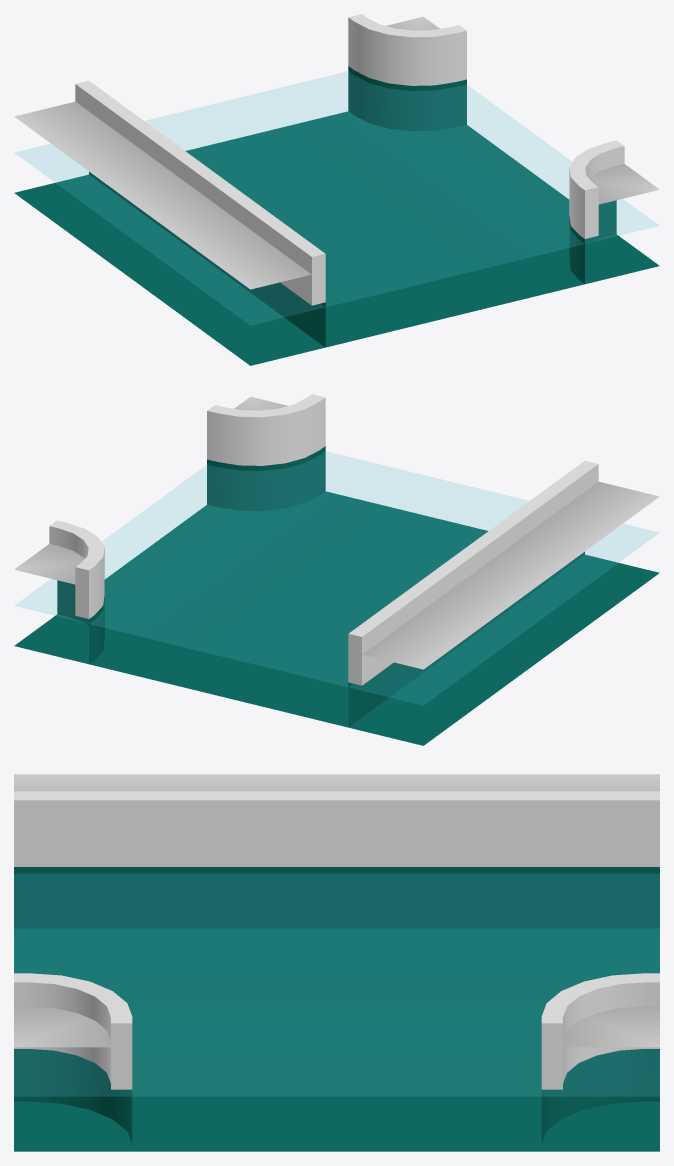
Rendered from Water_15.glb.
3 views of the same model, one above another, from view 1: azimuth 30°, elevation 25°; view 2: azimuth 150°, elevation 25°; view 3: azimuth 270°, elevation 25° (orthographic). The views are drawn at different scales.
Parts seen in each view (by area): view 1: Water_15; view 2: Water_15; view 3: Water_15.
Boxes of the visible parts, x1,y1,x2,y2 form: Water_15: [14, 14, 659, 365]; Water_15: [14, 394, 659, 745]; Water_15: [14, 774, 659, 1151].
Bounding box in the file's own units: 15 × 3.29 × 15.
Materials: 2 (2 with a texture image).
